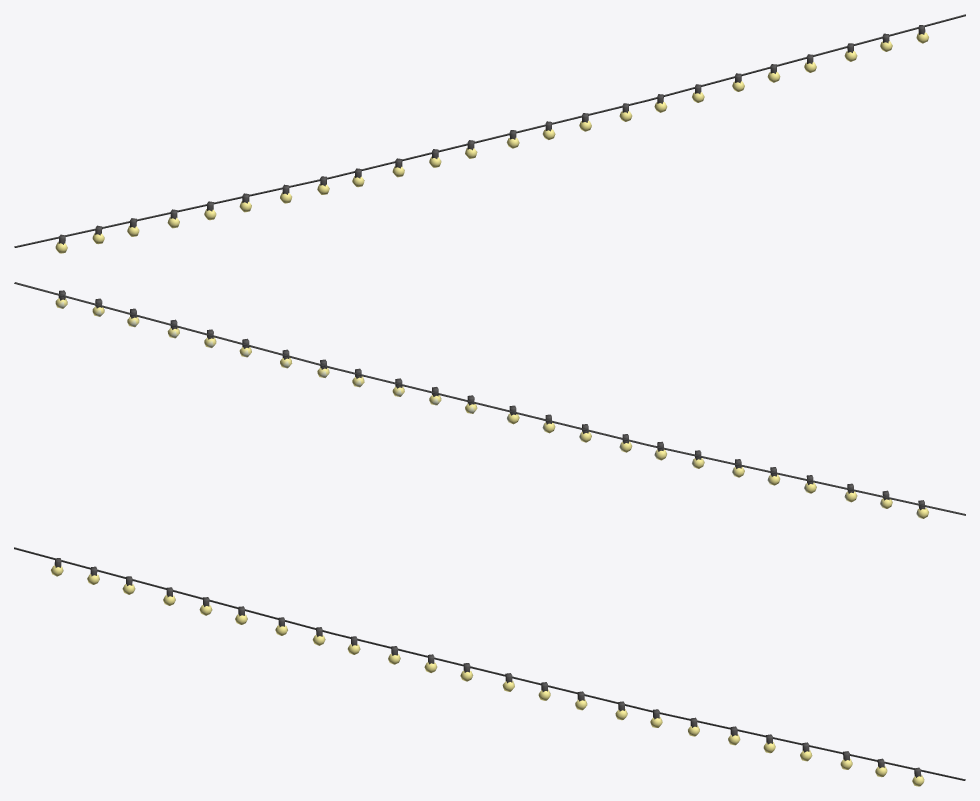
File: G_party_Stringlight_001_S1.fbx
3 views of the same model, one above another, from view 1: azimuth 30°, elevation 25°; view 2: azimuth 150°, elevation 25°; view 3: azimuth 330°, elevation 25° (orthographic).
Parts seen in each view (by area): view 1: G_Party_Stringlight_001_S1_P01_LOD0; view 2: G_Party_Stringlight_001_S1_P01_LOD0; view 3: G_Party_Stringlight_001_S1_P01_LOD0.
Part boxes in pixels (x1,y1,x2,y2): G_Party_Stringlight_001_S1_P01_LOD0: (14,14,965,253); G_Party_Stringlight_001_S1_P01_LOD0: (14,282,965,518); G_Party_Stringlight_001_S1_P01_LOD0: (14,547,965,786).
Bounding box in the file's own units: 1122 × 27.57 × 13.85.
1 material, 1 textured.
